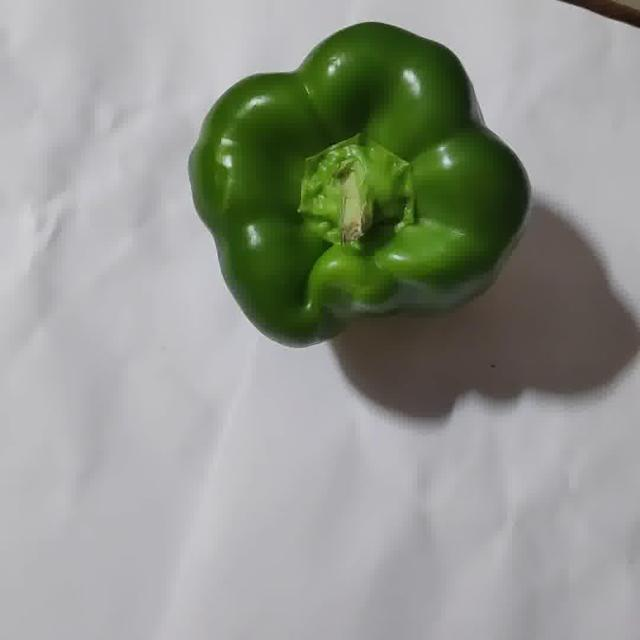Bell Pepper: (190, 23, 529, 345)
